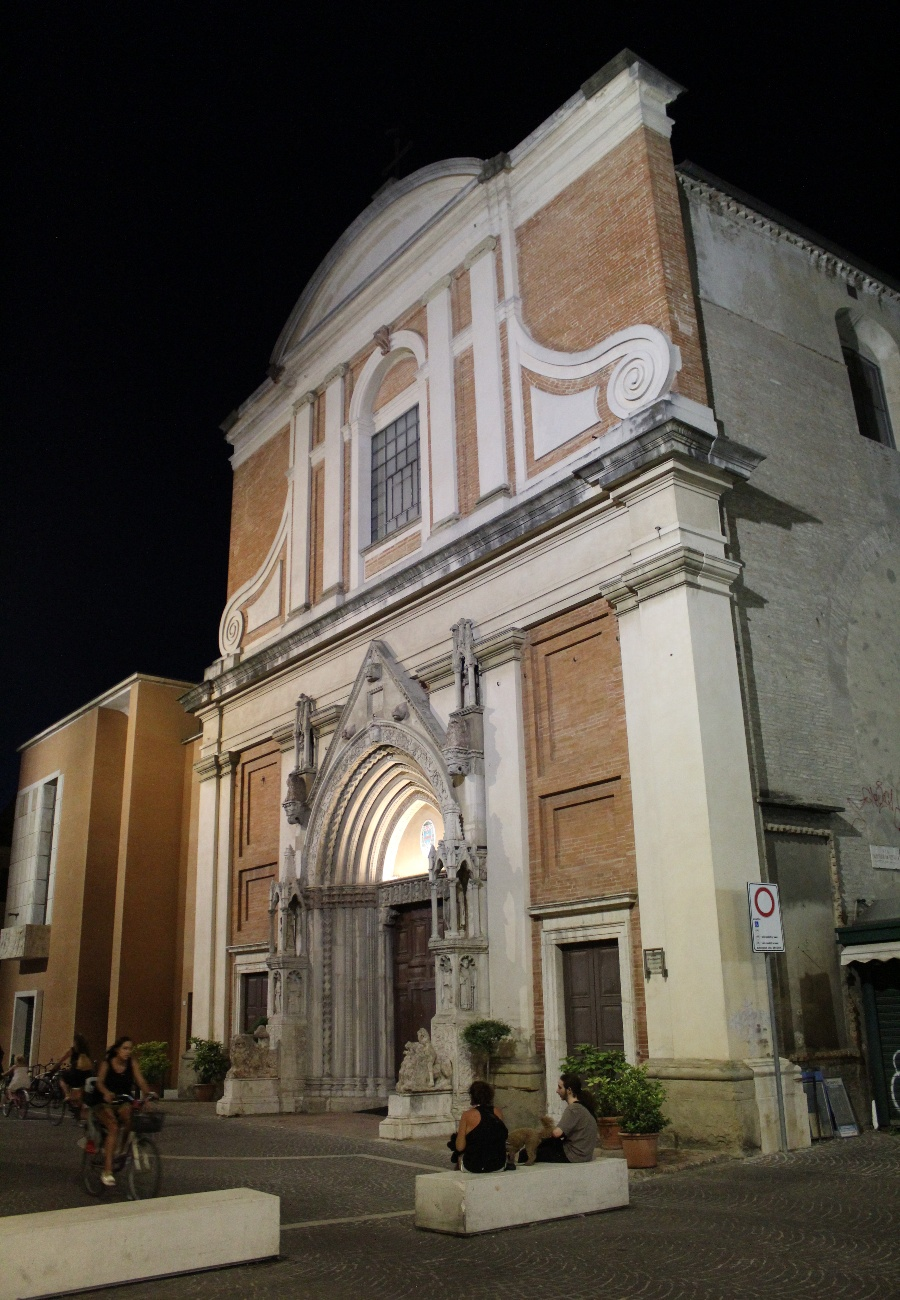Chiesa San Agostino: (181, 44, 758, 1169)
